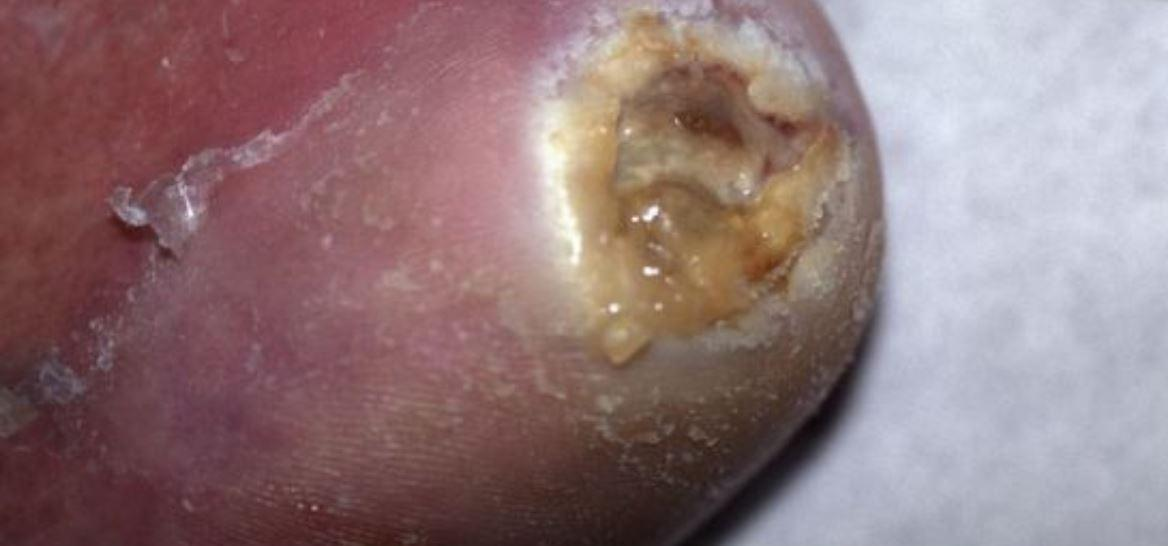Stage3: (542, 14, 835, 400)
